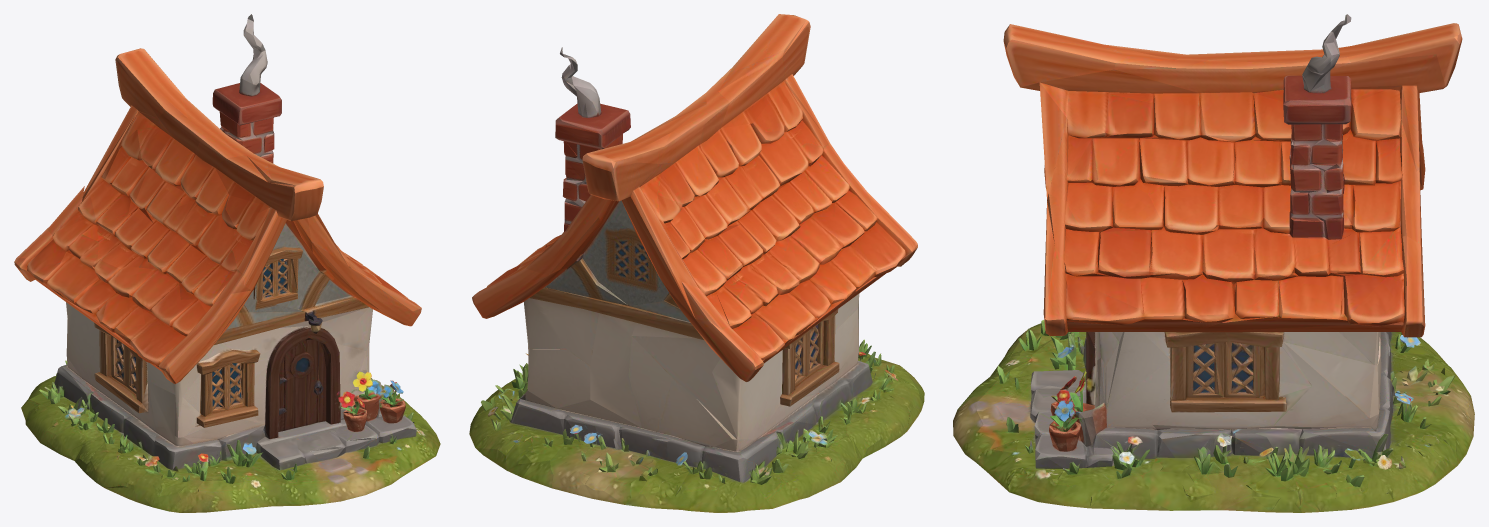
Rendered from cottage.fbx.
The picture shows the model from 3 angles, left to right: view 1: azimuth 30°, elevation 25°; view 2: azimuth 150°, elevation 25°; view 3: azimuth 270°, elevation 25°; orthographic projection. The views are drawn at different scales.
Parts seen in each view (by area): view 1: cottage; view 2: cottage; view 3: cottage.
Part boxes in pixels (box(x1,y1,x2,y2)): cottage: box(14, 14, 440, 512); cottage: box(469, 14, 924, 512); cottage: box(953, 14, 1474, 512).
Bounding box in the file's own units: 6.05 × 6.5 × 6.86.
